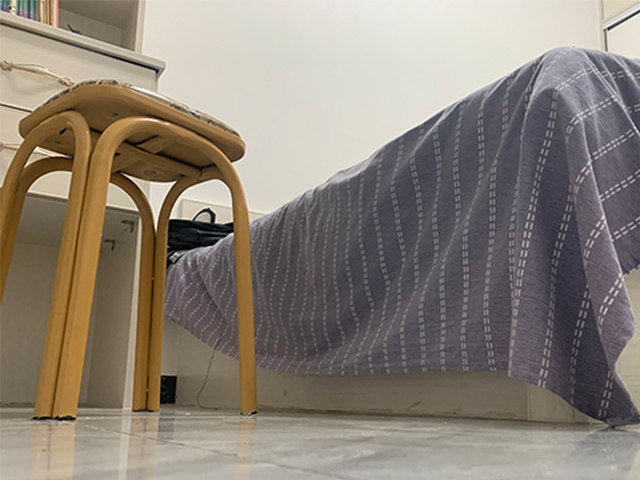bed: (165, 46, 640, 429)
stool: (1, 78, 256, 422)
table: (1, 1, 167, 410)
